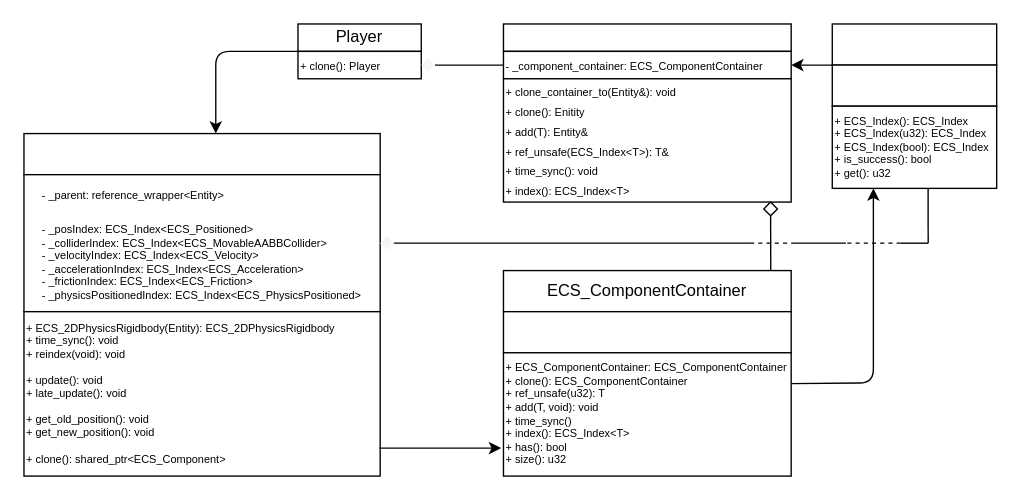
Image size: 1021x500. Some labels were removed from this diagram. The centre of each missing label's shape, as x and y in pixels:
"- _components: vector<ECS_Component>" belongs at (x=646, y=331).
"- _index: u32 - _success: bool" belongs at (x=914, y=85).
"ECS_2DPhysicsRigidbody" belongs at (x=201, y=153).
"ECS_Index<T>" belongs at (x=914, y=44).
"Entity" belongs at (x=646, y=37).
